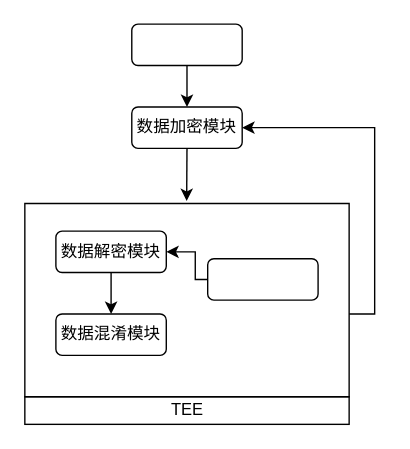
Image size: 410x449. Some labels were removed from this diagram. Each missing label, with the centre of its shape:
"密钥管理模块" goes at point 262,278.
"敏感数据" goes at point 186,44.
